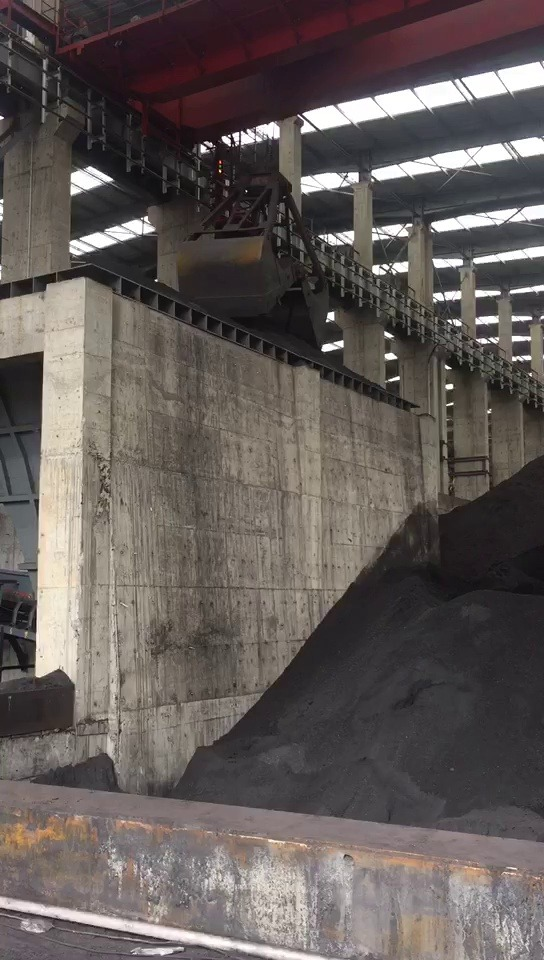grab: (170, 157, 334, 363)
